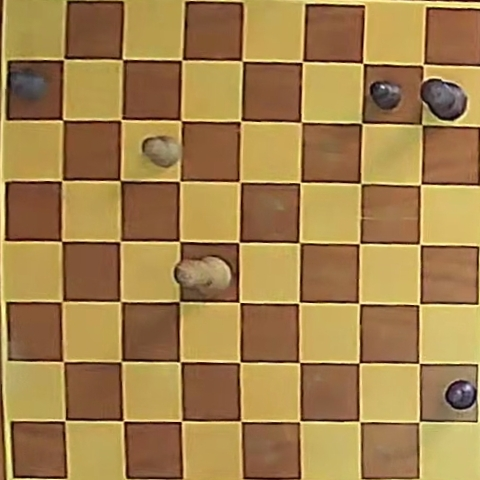black-king: (420, 78, 466, 121)
black-pawn: (10, 68, 48, 101), (443, 379, 477, 411), (370, 80, 403, 110)
white-king: (175, 256, 232, 291)
white-pawn: (143, 136, 181, 167)
